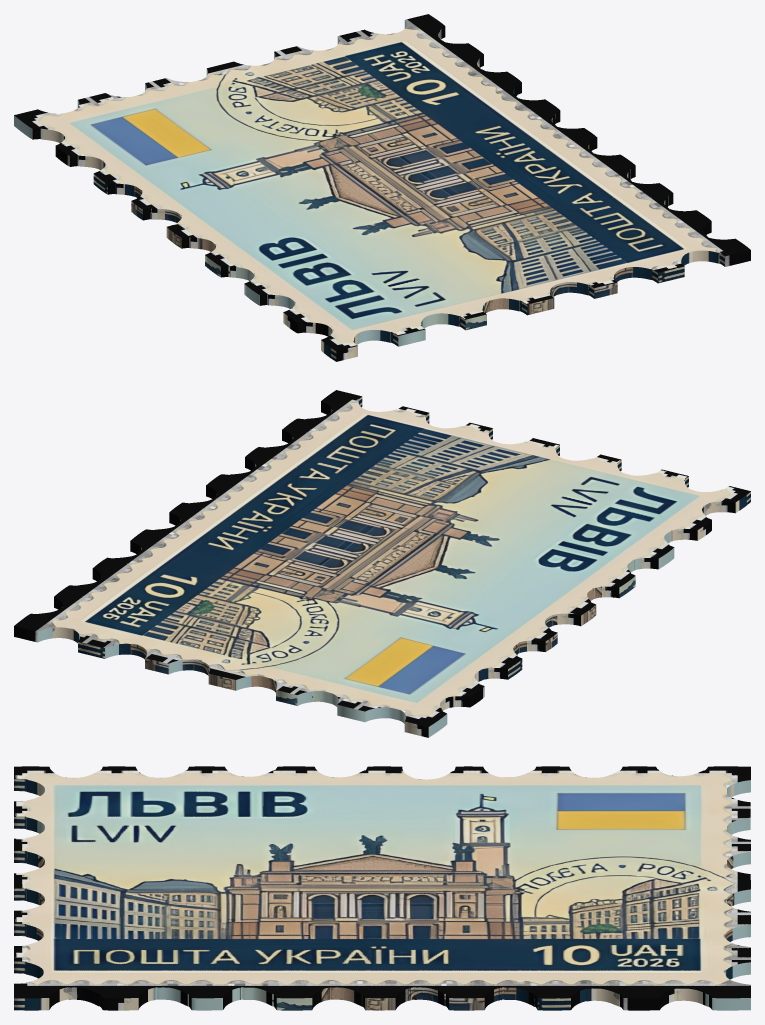
The model's file is Lviv.glb.
3 renders of one model, top to bottom at view 1: azimuth 30°, elevation 25°; view 2: azimuth 150°, elevation 25°; view 3: azimuth 270°, elevation 25°, orthographic. The views are drawn at different scales.
Parts seen in each view (by area): view 1: Curve; view 2: Curve; view 3: Curve.
Boxes of the visible parts, x1,y1,x2,y2 form: Curve: [14, 14, 750, 361]; Curve: [14, 390, 750, 737]; Curve: [14, 766, 750, 1010].
Size of the model in its own units: 124 by 3.07 by 167.
1 material, 1 textured.
